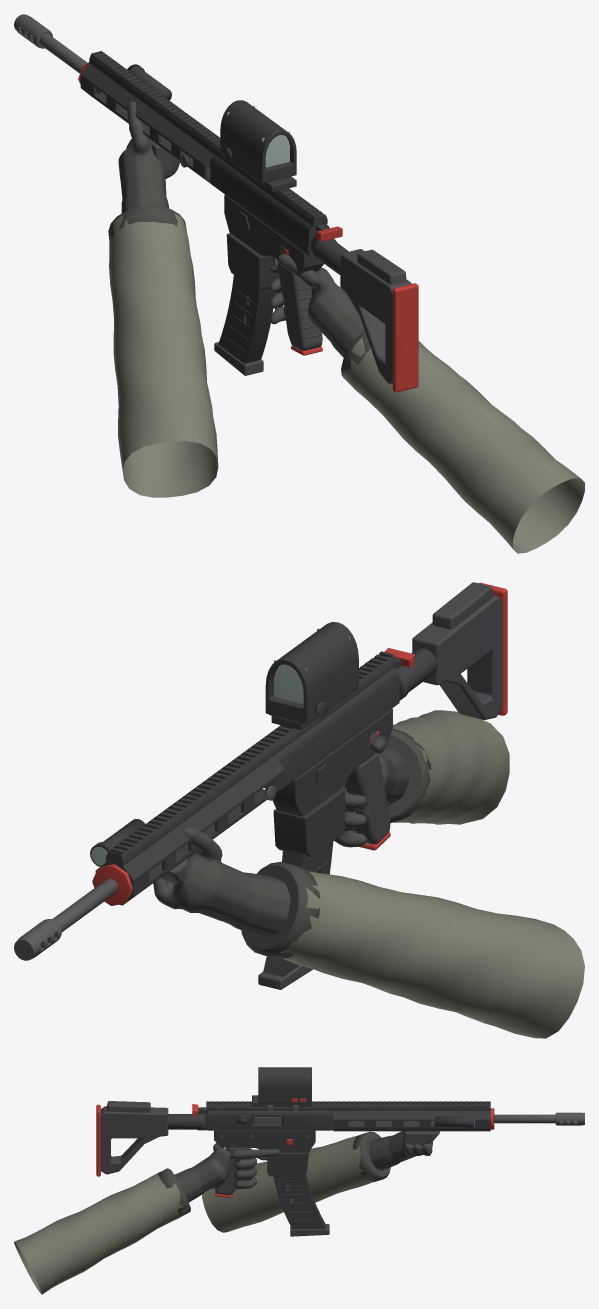
The picture shows the model from 3 angles, top to bottom: view 1: azimuth 30°, elevation 25°; view 2: azimuth 150°, elevation 25°; view 3: azimuth 270°, elevation 25°; orthographic projection. The views are drawn at different scales.
Visible parts, largest first — view 1: SM_EG47, Arm_L, Arm_R, SM_EG47_HoloSight, Magazine; view 2: SM_EG47, Arm_L, Arm_R, SM_EG47_HoloSight, Magazine; view 3: SM_EG47, Arm_R, Arm_L, SM_EG47_HoloSight, Magazine.
Boxes of the visible parts, x1=… form: SM_EG47: x1=14, y1=14, x2=418, y2=392; Arm_L: x1=108, y1=101, x2=218, y2=497; Arm_R: x1=269, y1=253, x2=584, y2=553; SM_EG47_HoloSight: x1=220, y1=100, x2=296, y2=192; Magazine: x1=214, y1=275, x2=274, y2=375; SM_EG47: x1=14, y1=582, x2=507, y2=960; Arm_L: x1=153, y1=826, x2=584, y2=1038; Arm_R: x1=334, y1=710, x2=509, y2=847; SM_EG47_HoloSight: x1=265, y1=622, x2=358, y2=729; Magazine: x1=258, y1=842, x2=333, y2=989; SM_EG47: x1=96, y1=1101, x2=584, y2=1197; Arm_R: x1=14, y1=1143, x2=279, y2=1294; Arm_L: x1=202, y1=1131, x2=432, y2=1232; SM_EG47_HoloSight: x1=252, y1=1067, x2=311, y2=1110; Magazine: x1=273, y1=1174, x2=329, y2=1236.
Bounding box in the file's own units: 0.4407 × 0.4401 × 1.13.
